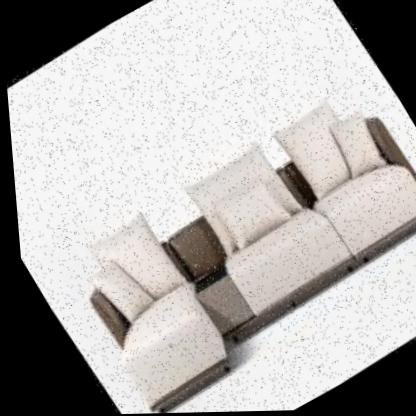Sofa: (11, 50, 416, 416)
